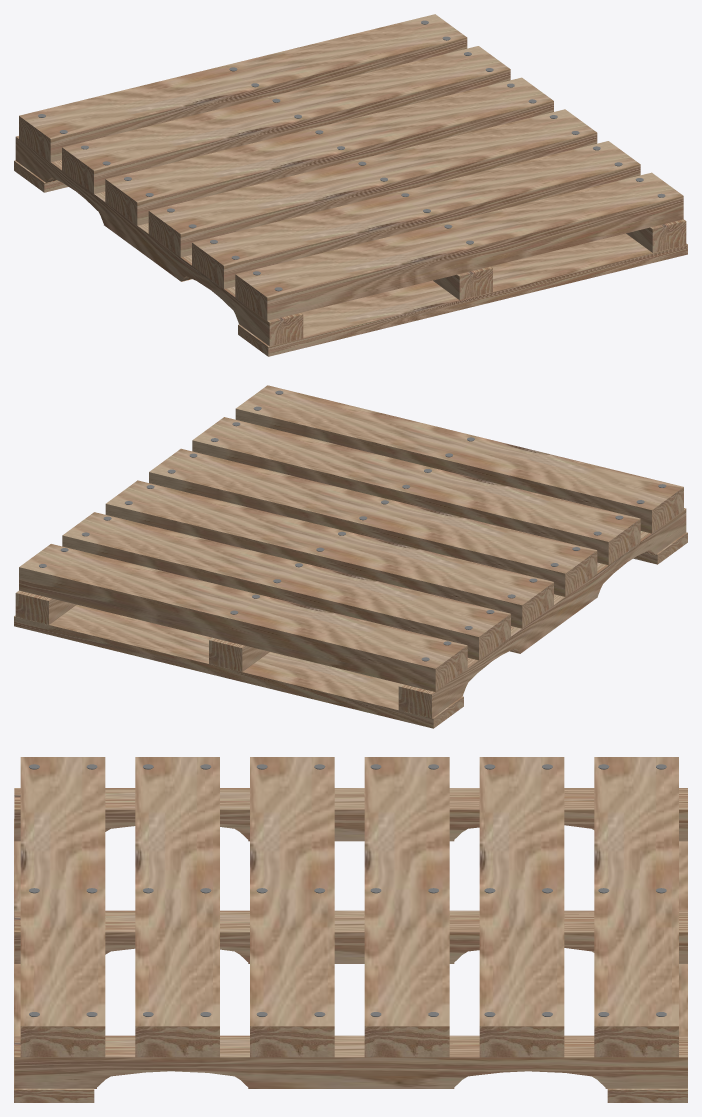
File: woodpallet.fbx
3 views of the same model, one above another, from view 1: azimuth 30°, elevation 25°; view 2: azimuth 150°, elevation 25°; view 3: azimuth 270°, elevation 25° (orthographic). The views are drawn at different scales.
Visible parts, largest first — view 1: polySurface15; view 2: polySurface15; view 3: polySurface15.
Part boxes in pixels (x1,y1,x2,y2): polySurface15: (14,14,687,356); polySurface15: (14,385,687,728); polySurface15: (14,757,687,1102).
Size of the model in its own units: 12.91 by 1.72 by 13.55.
Materials: 2 (1 with a texture image).
